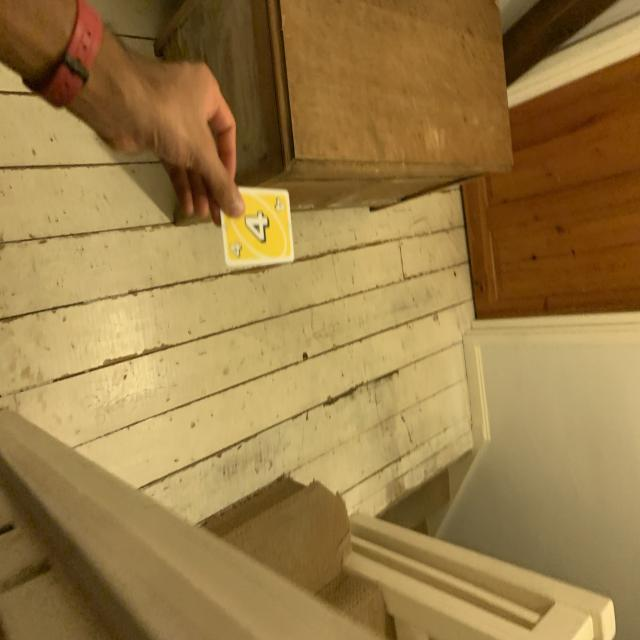lyellow-4: (272, 195, 288, 215)
